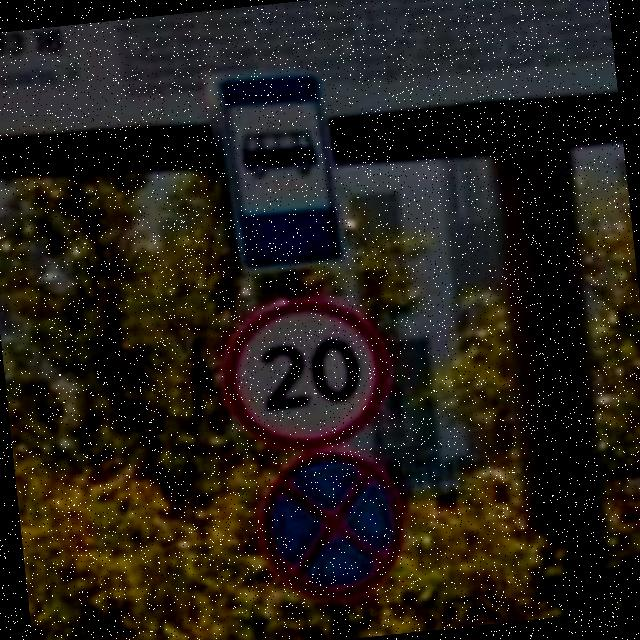Ograniczenie predkosci do 20: (214, 288, 398, 460)
Zakaz zatrzymywania sie: (252, 441, 411, 605)
